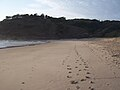human_foot_print: (66, 57, 94, 89), (72, 54, 95, 89), (78, 60, 94, 89), (67, 58, 79, 89), (78, 56, 91, 82), (66, 62, 77, 89), (84, 67, 94, 84), (79, 78, 94, 89), (67, 76, 79, 89), (80, 78, 94, 89), (85, 72, 94, 89), (85, 74, 94, 89), (74, 59, 81, 75), (67, 81, 80, 89), (83, 68, 90, 78), (62, 55, 69, 64), (67, 65, 71, 77), (83, 63, 88, 70), (67, 65, 71, 72), (83, 65, 88, 70), (70, 80, 77, 83), (83, 60, 87, 64), (67, 65, 71, 69), (21, 81, 25, 85), (75, 59, 79, 62), (88, 87, 94, 89), (76, 73, 80, 76), (76, 85, 79, 89), (89, 81, 94, 83), (86, 72, 91, 74), (80, 79, 85, 81), (85, 76, 90, 78), (76, 59, 79, 62), (84, 62, 87, 65), (21, 81, 24, 84), (79, 69, 82, 72), (81, 59, 84, 62), (85, 66, 89, 68), (68, 71, 72, 73), (62, 60, 64, 64), (67, 65, 71, 67), (67, 88, 71, 90), (32, 67, 34, 71), (67, 67, 71, 69), (75, 66, 78, 68), (75, 61, 78, 63), (80, 56, 82, 59), (79, 63, 82, 65), (20, 88, 23, 90), (83, 69, 88, 70), (67, 76, 71, 77), (75, 62, 78, 63)
